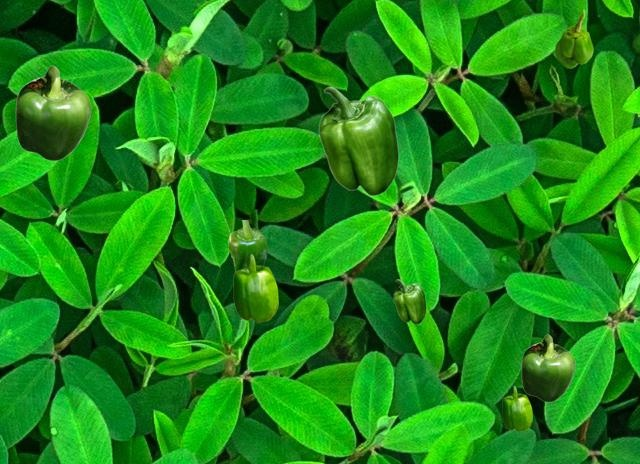bell_pepper: (318, 86, 398, 195), (15, 65, 90, 160), (521, 334, 574, 401), (233, 254, 277, 321), (555, 9, 592, 67), (228, 220, 266, 271), (393, 279, 425, 323), (502, 386, 531, 430)
